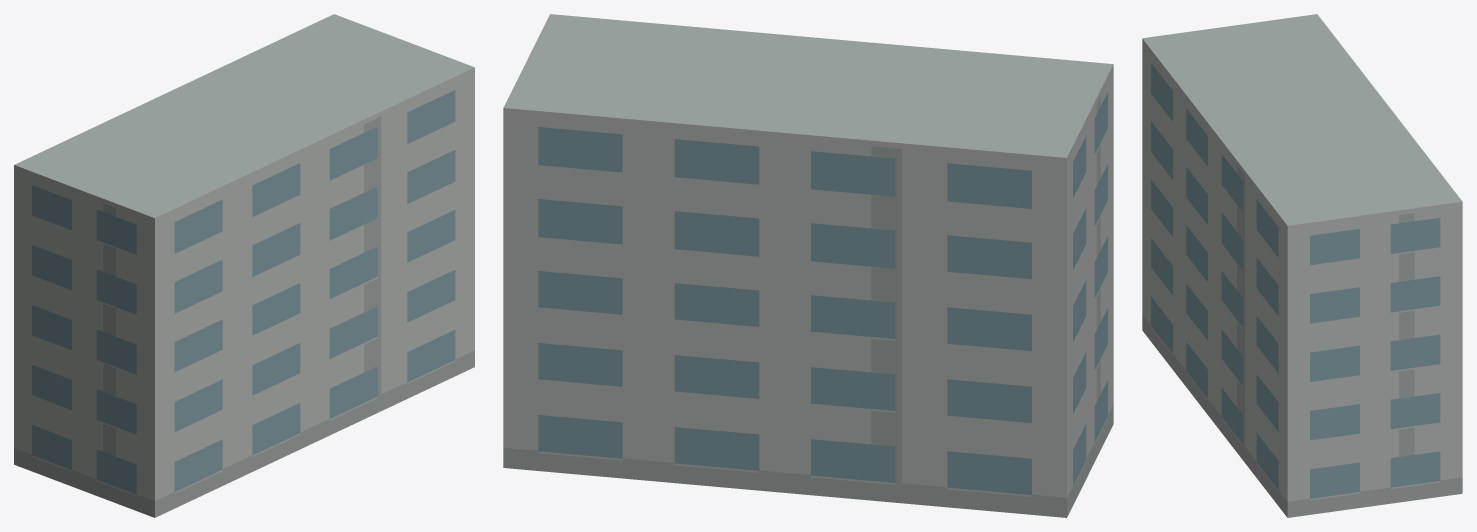
File: residential-8ab5513f-2f5e-42ac-8a4c-c548ee53c9b0.glb
3 views of the same model, side by side, from view 1: azimuth 30°, elevation 25°; view 2: azimuth 150°, elevation 25°; view 3: azimuth 270°, elevation 25° (orthographic). The views are drawn at different scales.
Visible parts, largest first — view 1: residential-8ab5513f-2f5e-42ac-8a4c-c548ee53c9b0.tmp; view 2: residential-8ab5513f-2f5e-42ac-8a4c-c548ee53c9b0.tmp; view 3: residential-8ab5513f-2f5e-42ac-8a4c-c548ee53c9b0.tmp.
Boxes of the visible parts, x1,y1,x2,y2 form: residential-8ab5513f-2f5e-42ac-8a4c-c548ee53c9b0.tmp: [14, 14, 474, 517]; residential-8ab5513f-2f5e-42ac-8a4c-c548ee53c9b0.tmp: [503, 14, 1113, 517]; residential-8ab5513f-2f5e-42ac-8a4c-c548ee53c9b0.tmp: [1142, 14, 1462, 517].
Bounding box in the file's own units: 23.74 × 15.25 × 15.17.
